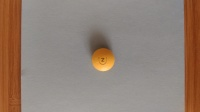Nurofen: (90, 46, 116, 73)
